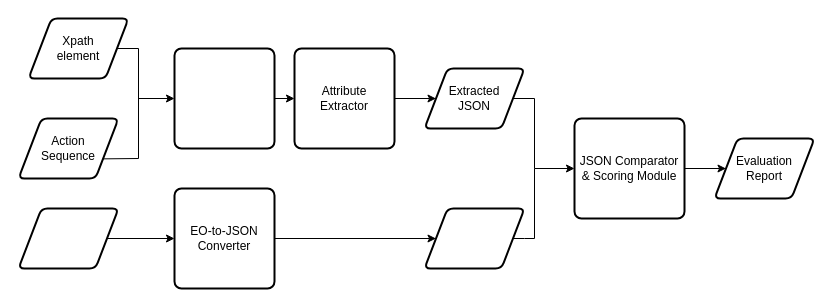
Image size: 832x306. Some labels were removed from this diagram. The shapes that lost their labels are listed below. From the top down, each one's centre as x and y in pixels, then its label:
(224,98): DOM Element Locator
(68,238): Expected Output
(474,238): Expected JSON
